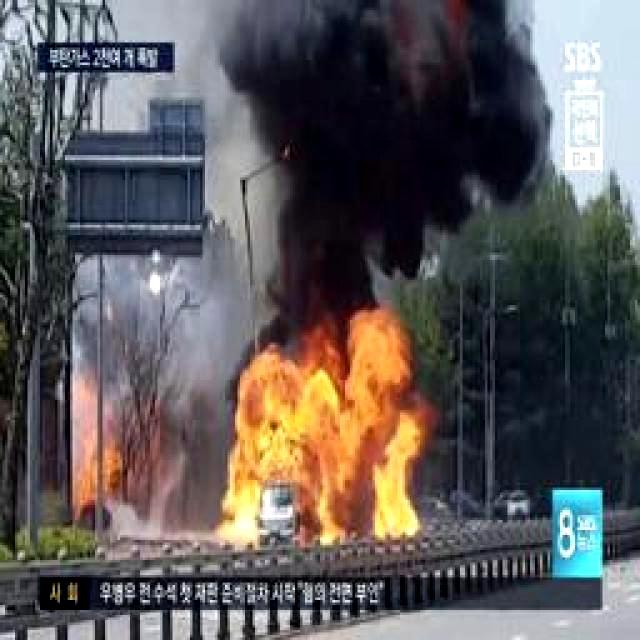fire: (234, 352, 411, 536), (74, 436, 110, 496)
